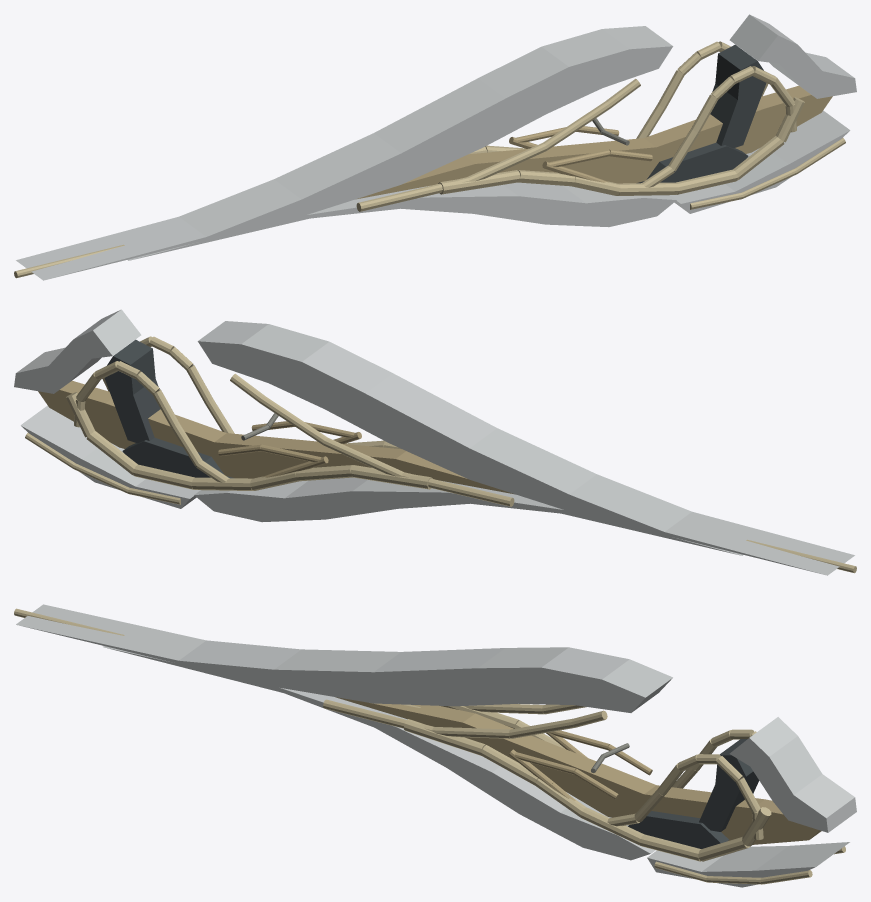
The model's file is ruch_white_off.glb.
3 views of the same model, one above another, from view 1: azimuth 30°, elevation 25°; view 2: azimuth 150°, elevation 25°; view 3: azimuth 330°, elevation 25° (orthographic).
Parts seen in each view (by area): view 1: upper_blade_0, spine_3, lower_blade_1, gold_frame_8, rear_fairing_6, aft_lower_7, cockpit_arch_9, seat_back_5, seat_base_4, structural_braces_10, rear_rail_11; view 2: upper_blade_0, spine_3, lower_blade_1, gold_frame_8, rear_fairing_6, aft_lower_7, cockpit_arch_9, seat_back_5, seat_base_4, structural_braces_10, rear_rail_11; view 3: upper_blade_0, spine_3, gold_frame_8, lower_blade_1, rear_fairing_6, aft_lower_7, cockpit_arch_9, seat_back_5, structural_braces_10, seat_base_4, rear_rail_11.
Part boxes in pixels (x1,y1,x2,y2): upper_blade_0: [16, 26, 673, 280]; spine_3: [356, 85, 832, 199]; lower_blade_1: [127, 182, 676, 260]; gold_frame_8: [356, 78, 804, 211]; rear_fairing_6: [729, 14, 856, 98]; aft_lower_7: [670, 110, 850, 213]; cockpit_arch_9: [636, 41, 796, 187]; seat_back_5: [710, 44, 766, 148]; seat_base_4: [636, 142, 748, 183]; structural_braces_10: [509, 126, 652, 182]; rear_rail_11: [690, 138, 845, 209]; upper_blade_0: [197, 321, 854, 575]; spine_3: [38, 380, 514, 494]; lower_blade_1: [194, 477, 743, 555]; gold_frame_8: [66, 373, 514, 506]; rear_fairing_6: [14, 309, 141, 393]; aft_lower_7: [20, 405, 200, 508]; cockpit_arch_9: [74, 336, 234, 482]; seat_back_5: [104, 339, 160, 443]; seat_base_4: [122, 437, 234, 478]; structural_braces_10: [218, 421, 361, 477]; rear_rail_11: [25, 433, 180, 504]; upper_blade_0: [16, 604, 672, 712]; spine_3: [335, 697, 821, 844]; gold_frame_8: [323, 699, 771, 861]; lower_blade_1: [103, 646, 655, 860]; rear_fairing_6: [729, 717, 856, 832]; aft_lower_7: [647, 842, 849, 887]; cockpit_arch_9: [607, 729, 763, 839]; seat_back_5: [699, 739, 759, 831]; structural_braces_10: [509, 730, 652, 800]; seat_base_4: [628, 811, 728, 848]; rear_rail_11: [654, 846, 845, 884].
Size of the model in its own units: 9.12 by 1.86 by 0.76.
